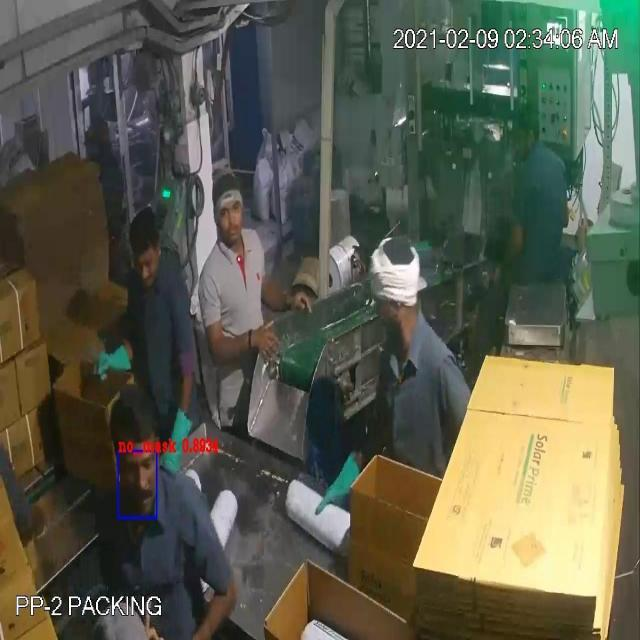No_Gloves: (44, 44, 508, 479)
